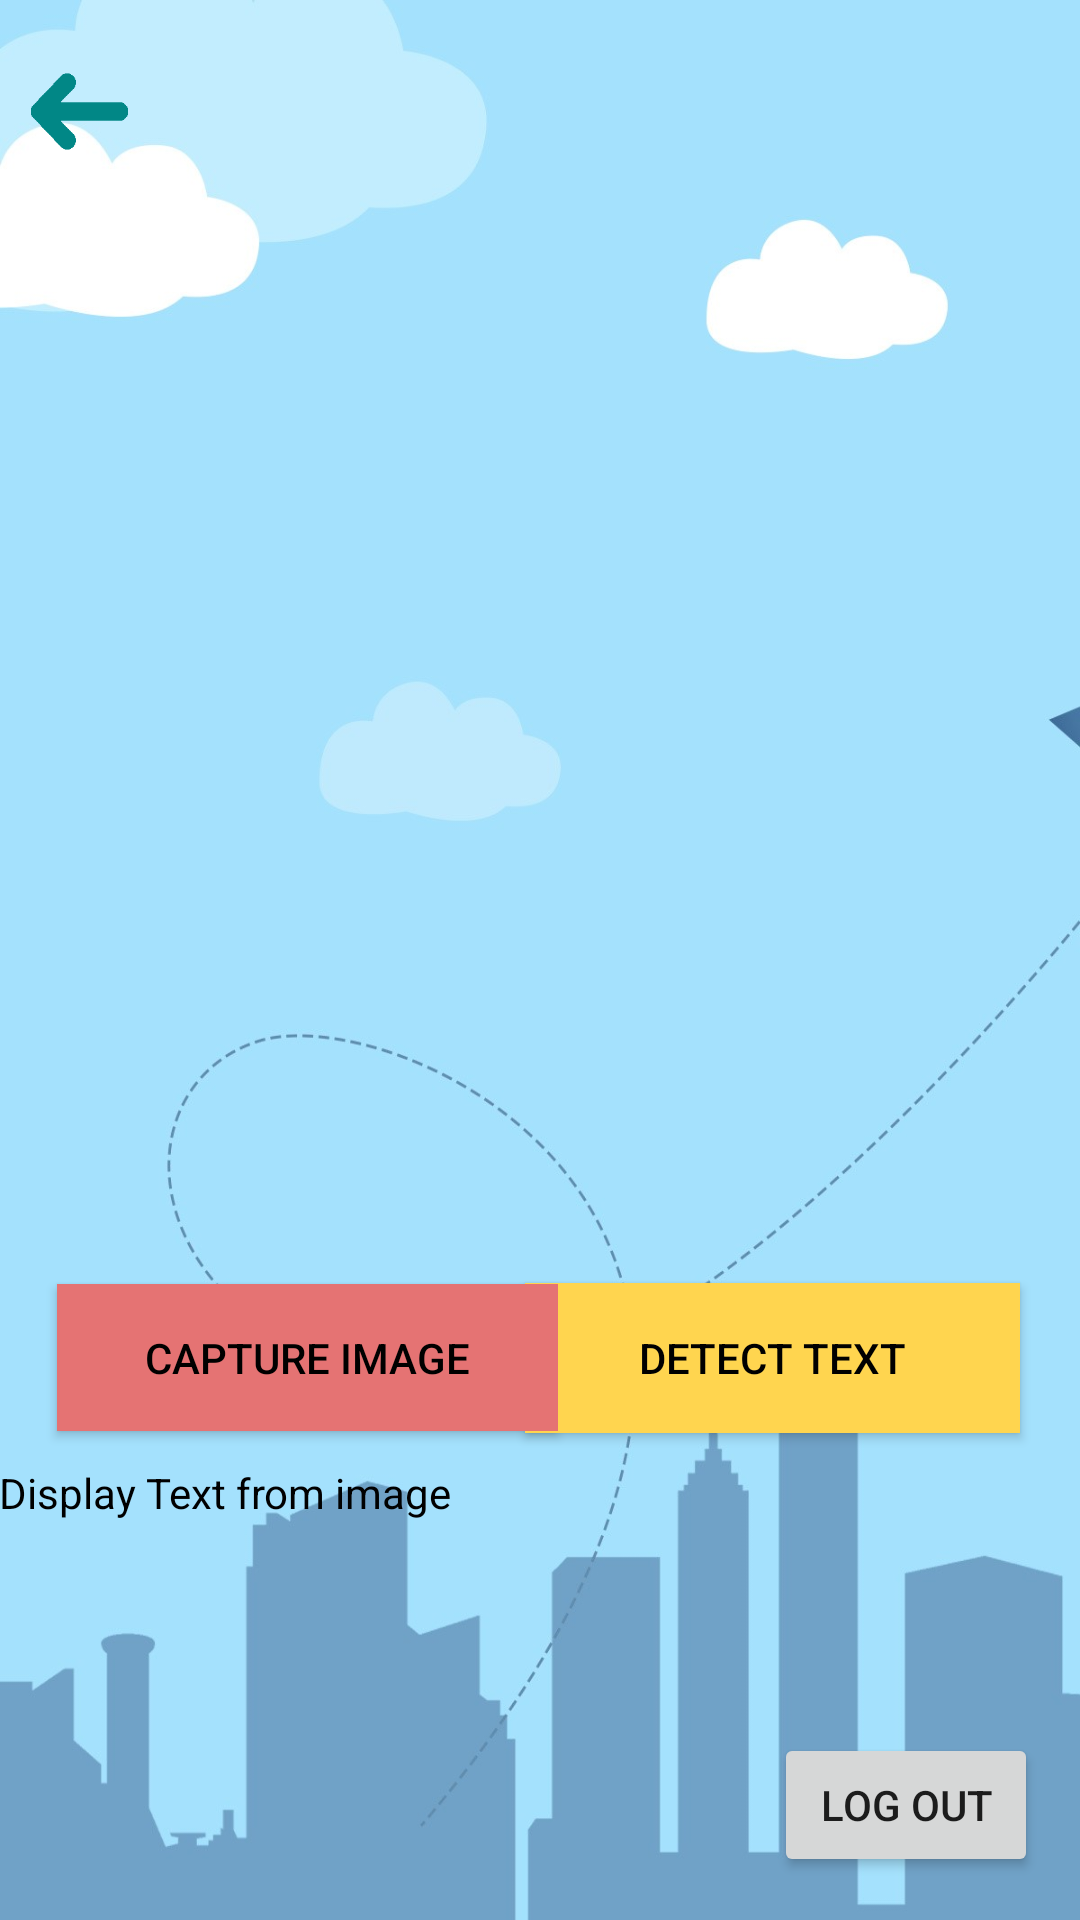

Point at icon controls on the screen. Image size 1080x1920, points as (x,y).
back: (79,111)
